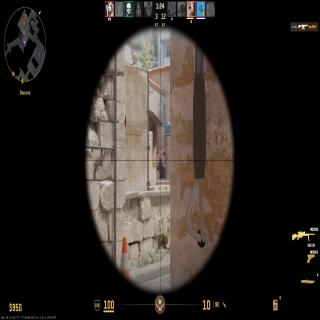CT-Body: (157, 157, 166, 179)
CT-Head: (159, 156, 163, 164)
